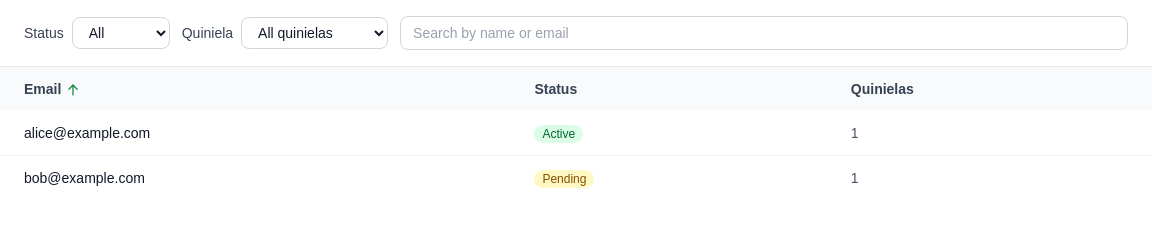
Test: UsersClient › shows error state and retry button when listUsersAction fails
The width and height of the screenshot is (1152, 240).
Note: Change filter to trigger a fetch (status dropdown — no debounce)
Select "Active" in the dropdown labelled "Status". click: (121, 33)
box: [72, 17, 170, 49]
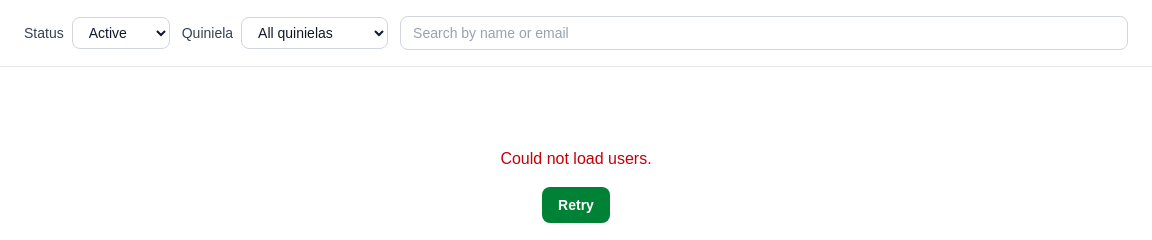
Now the text "Could not load users." is shown, box [500, 147, 652, 171]
Now the button "Retry" is shown, box [542, 187, 610, 223]
